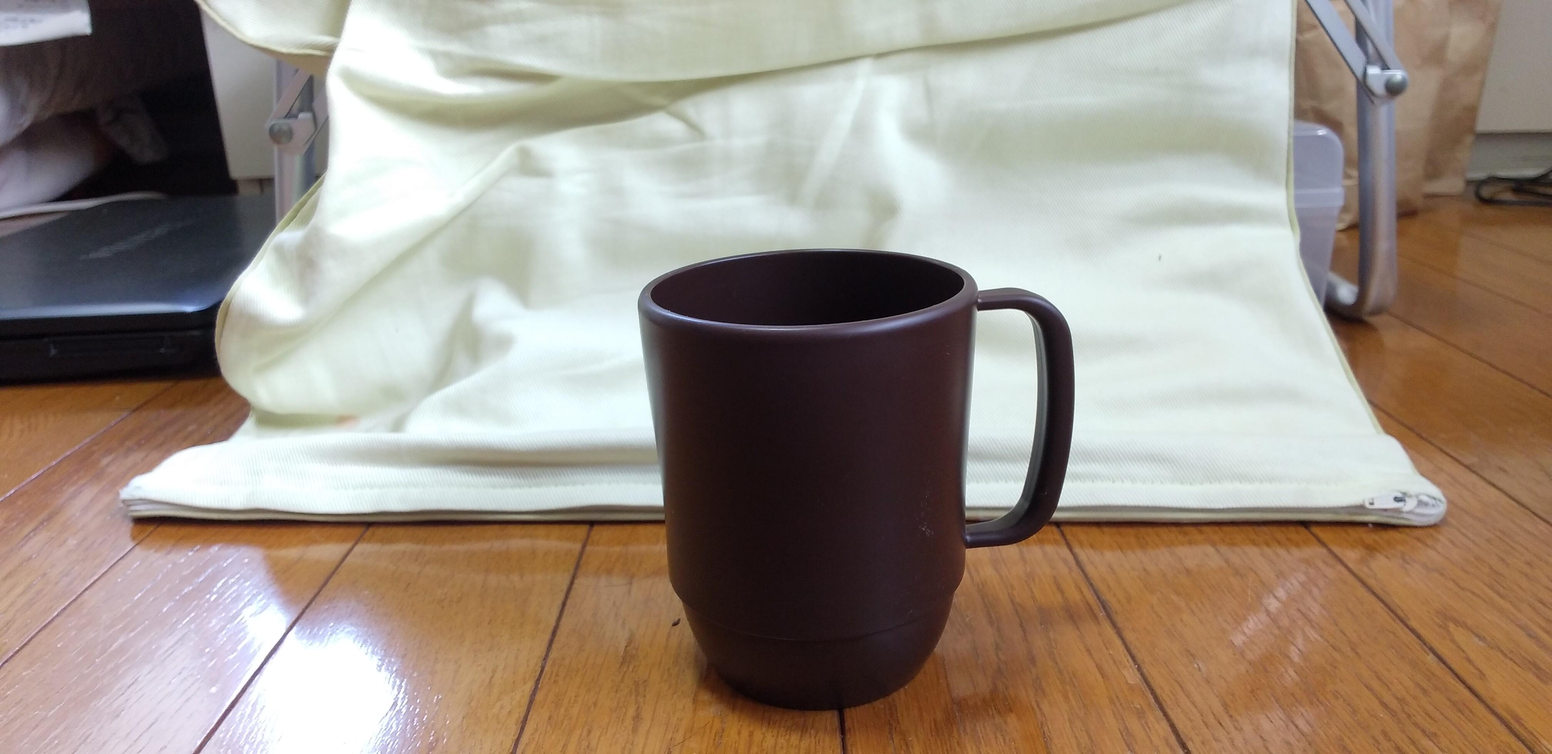mug-real100-3d100: (638, 249, 1074, 709)
